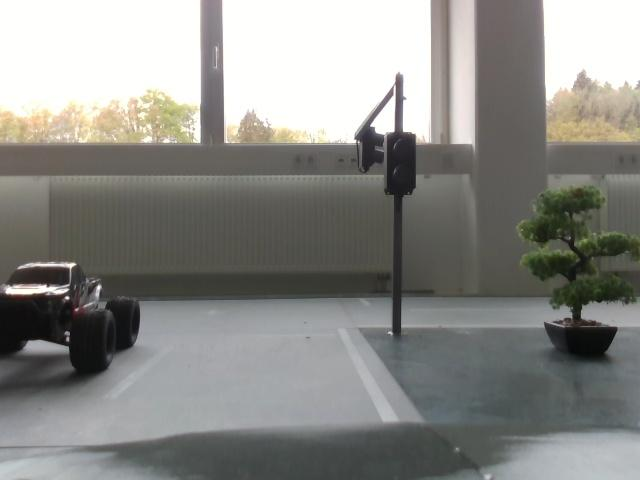car: (1, 248, 139, 394)
potted plant: (521, 179, 640, 364)
traffic light: (384, 126, 431, 212), (357, 127, 384, 176)
